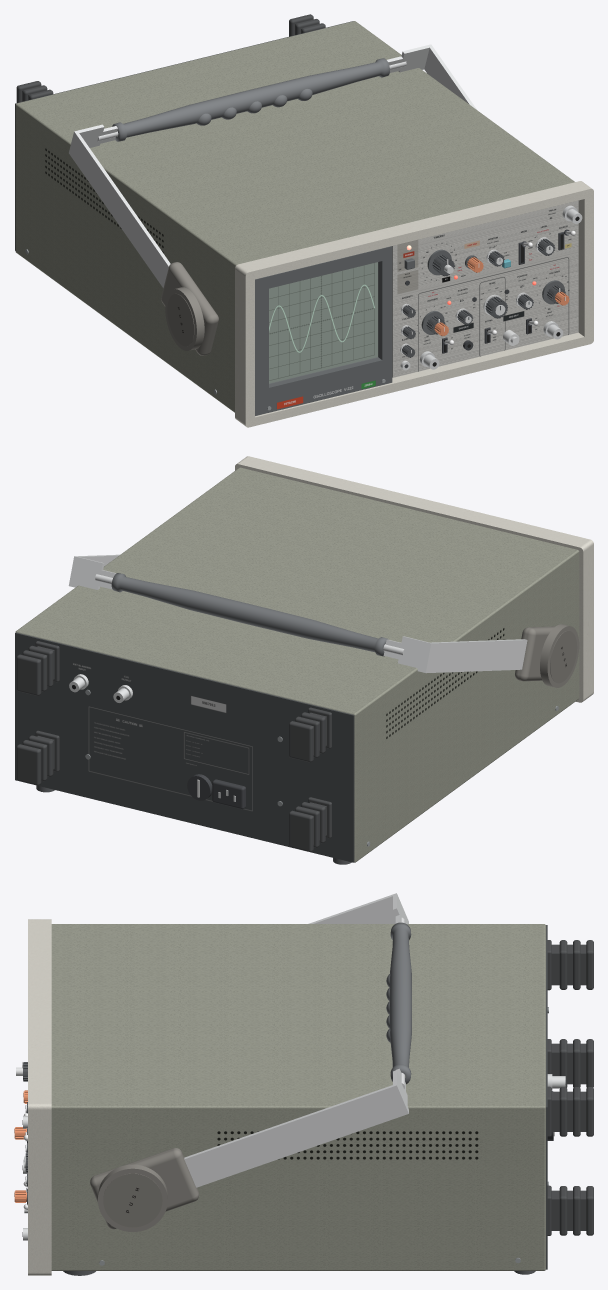
Rendered from oscilloscope.glb.
3 views of the same model, one above another, from view 1: azimuth 30°, elevation 25°; view 2: azimuth 150°, elevation 25°; view 3: azimuth 270°, elevation 25° (orthographic). The views are drawn at different scales.
Bounding box in the file's own units: 34.87 × 15.83 × 41.42.
Materials: 34 (10 with a texture image).
